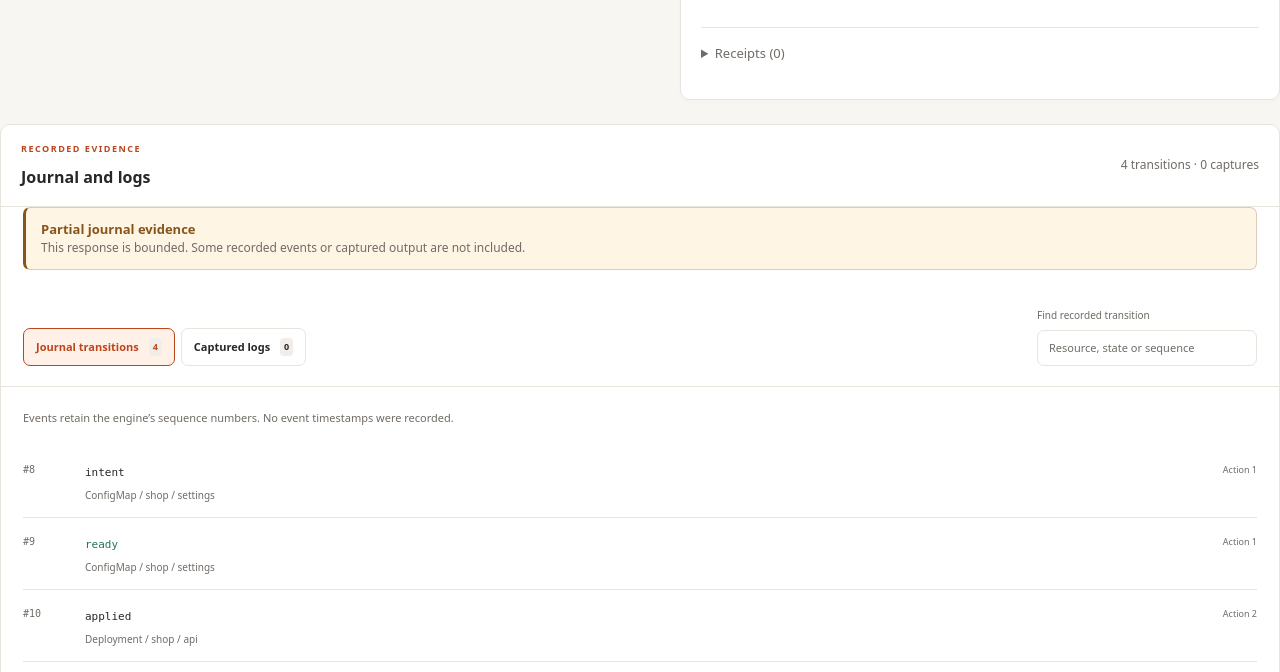
Scenario: keeps partial evidence explicit, filters recorded transitions without removing raw evidence and explains absent logs
This screenshot has width=1280, height=672.
(page scrolled)
Expected: the text "Partial journal evidence" is shown, [41, 220, 196, 238]
Step 1. Type "readiness-timeout" into the search field labelled "Find recorded transition" → (1147, 348), box [1037, 330, 1257, 366]
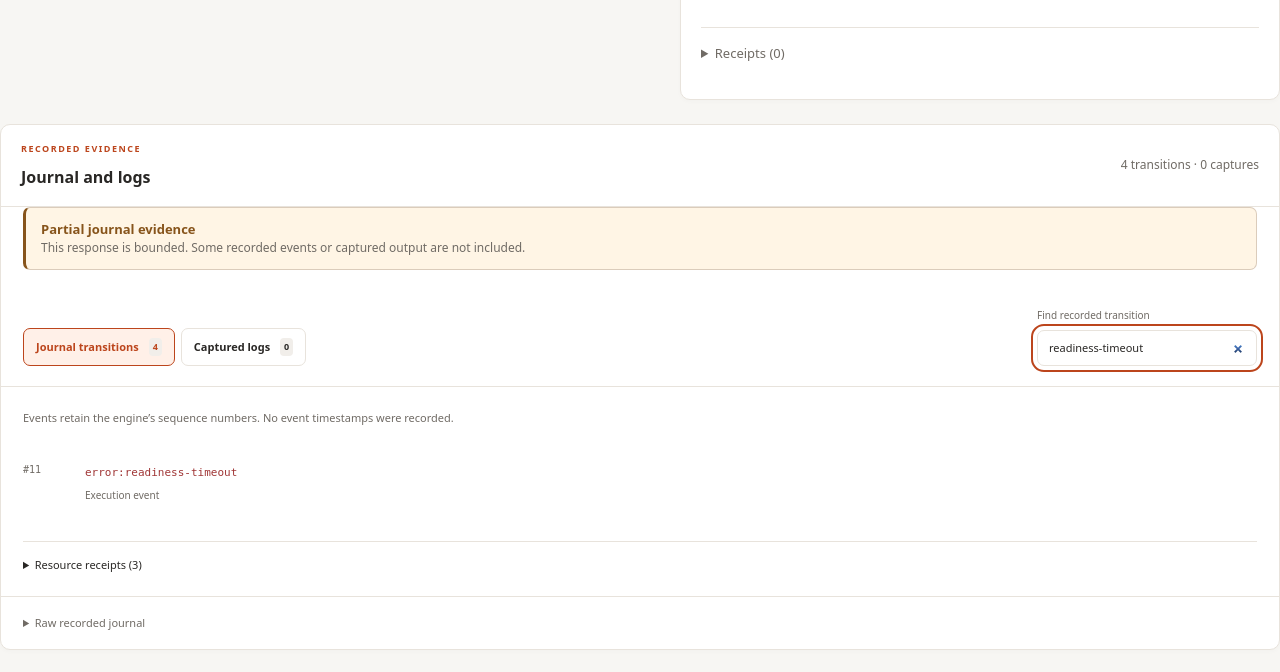
Step 2. Click the button "Captured logs 0" → (244, 347), box [181, 328, 306, 366]
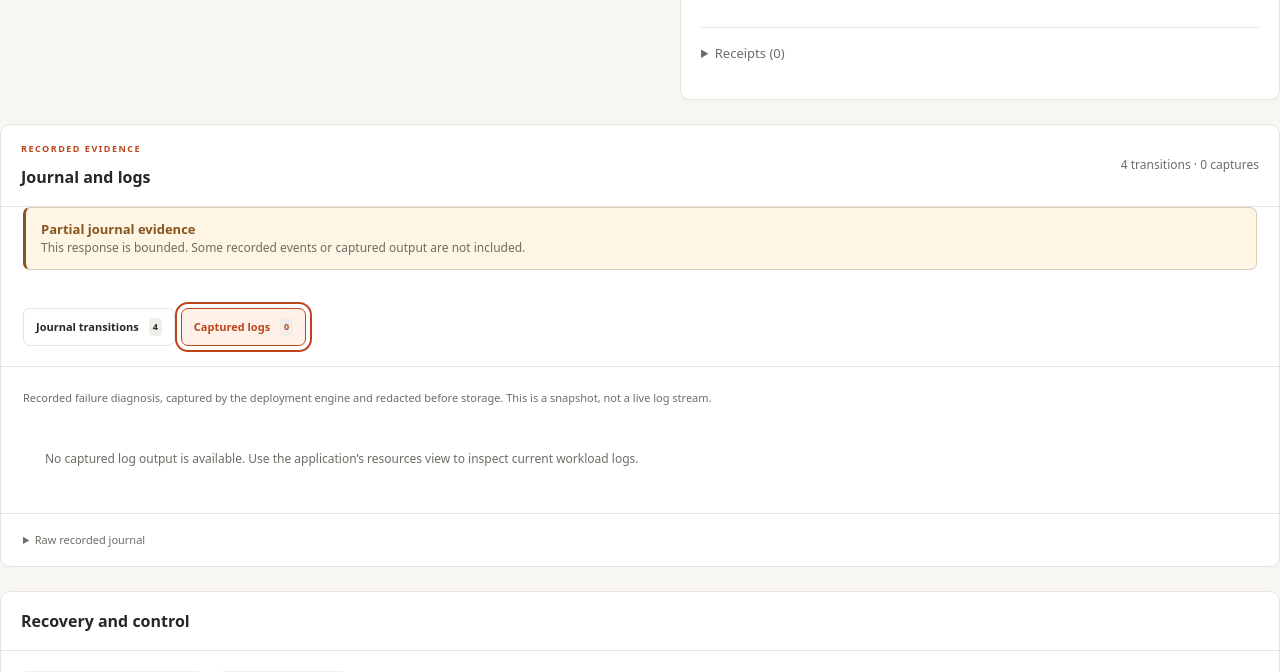
Result: the text "No captured log output is available. Use the application’s resources view to inspect current workload logs." is shown at [45, 450, 638, 467]
